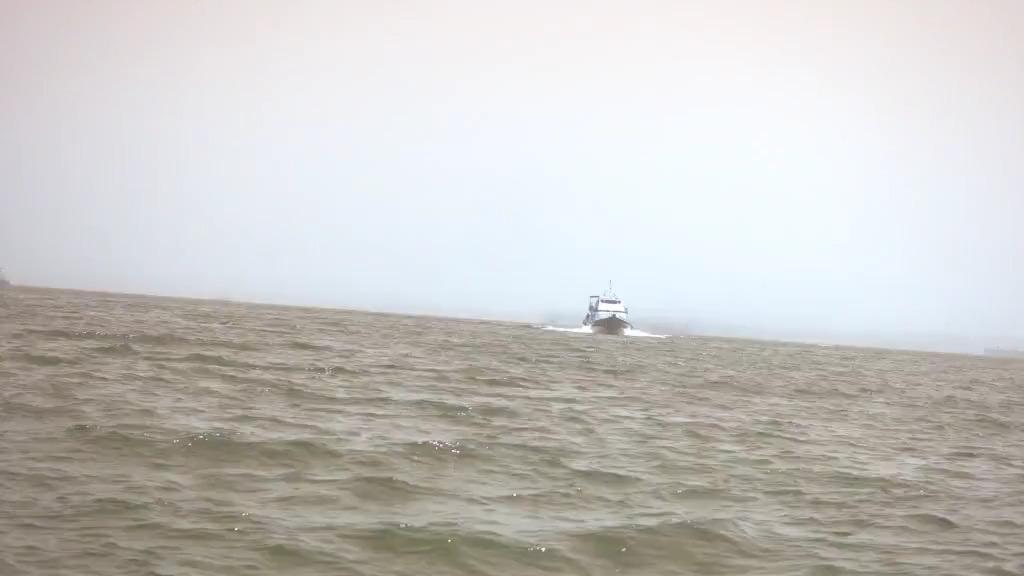PassengerShip: (576, 272, 636, 338)
